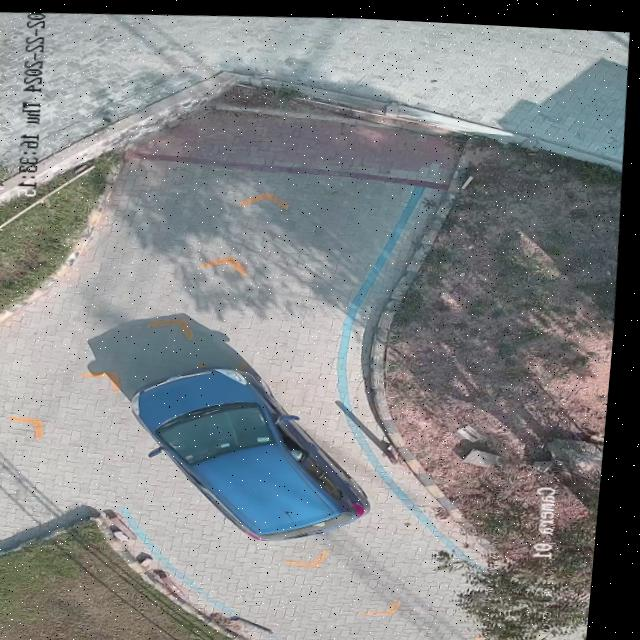car: (139, 364, 377, 536)
